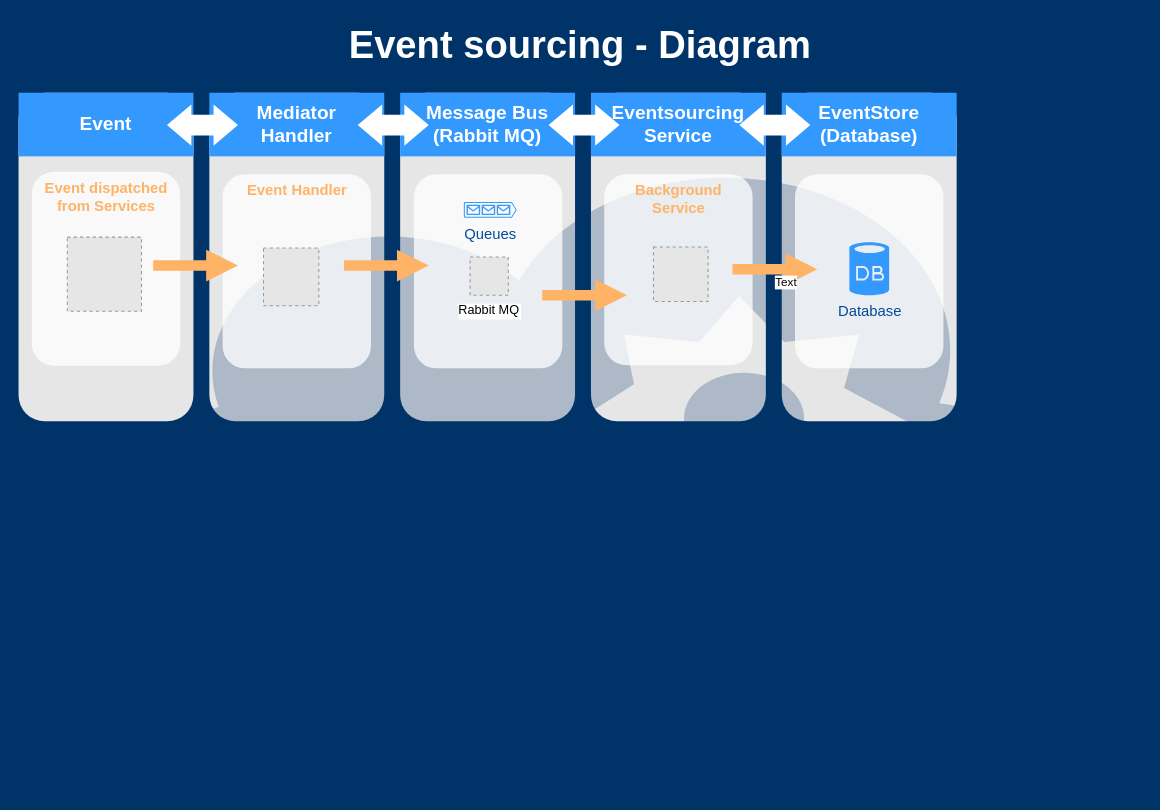
Some shapes in this 1160 by 810 pixel diagram are drawn without their labels. Grey dashed boxes stand in for pictures. Each missing label, with the box of its shape:
Messaging: (413, 174, 562, 368)
Storage Management: (794, 174, 943, 368)
